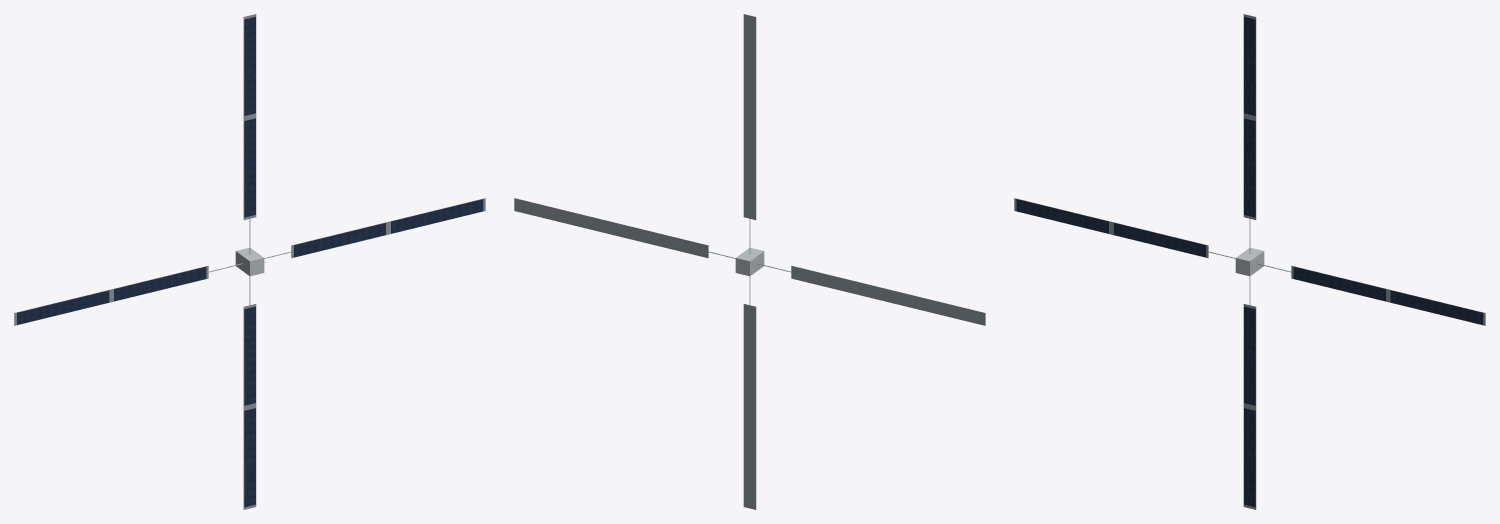
Rendered from ref-lace-20496.glb.
3 views of the same model, side by side, from view 1: azimuth 30°, elevation 25°; view 2: azimuth 150°, elevation 25°; view 3: azimuth 330°, elevation 25° (orthographic).
Parts seen in each view (by area): view 1: Photovoltaic laminates (×8), Spacecraft body; view 2: Array frame (×8), Spacecraft body; view 3: Photovoltaic laminates (×8), Spacecraft body.
Part boxes in pixels (left/top/right/bottom): Photovoltaic laminates (×8): left=17, top=17, right=483, bottom=507; Spacecraft body: left=235, top=247, right=264, bottom=276; Array frame (×8): left=514, top=14, right=985, bottom=509; Spacecraft body: left=735, top=247, right=764, bottom=276; Photovoltaic laminates (×8): left=1016, top=17, right=1482, bottom=507; Spacecraft body: left=1235, top=247, right=1264, bottom=276.
Size of the model in its own units: 46 by 46 by 2.48.
3 materials, 1 textured.
